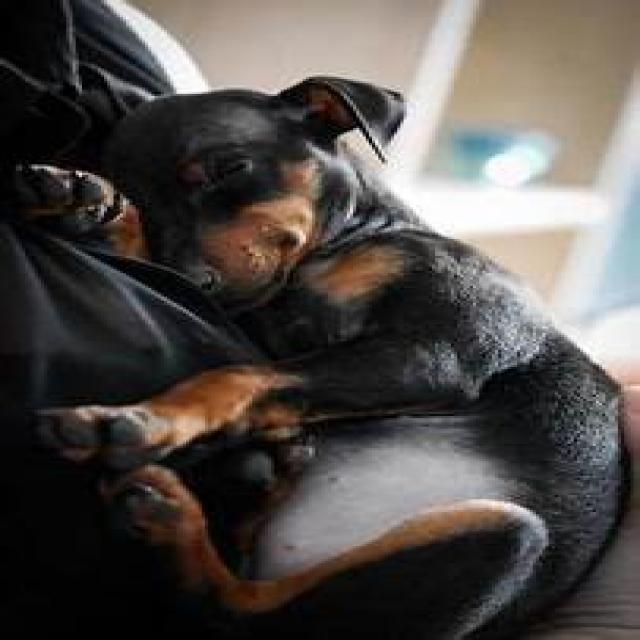dog: (34, 72, 630, 638)
